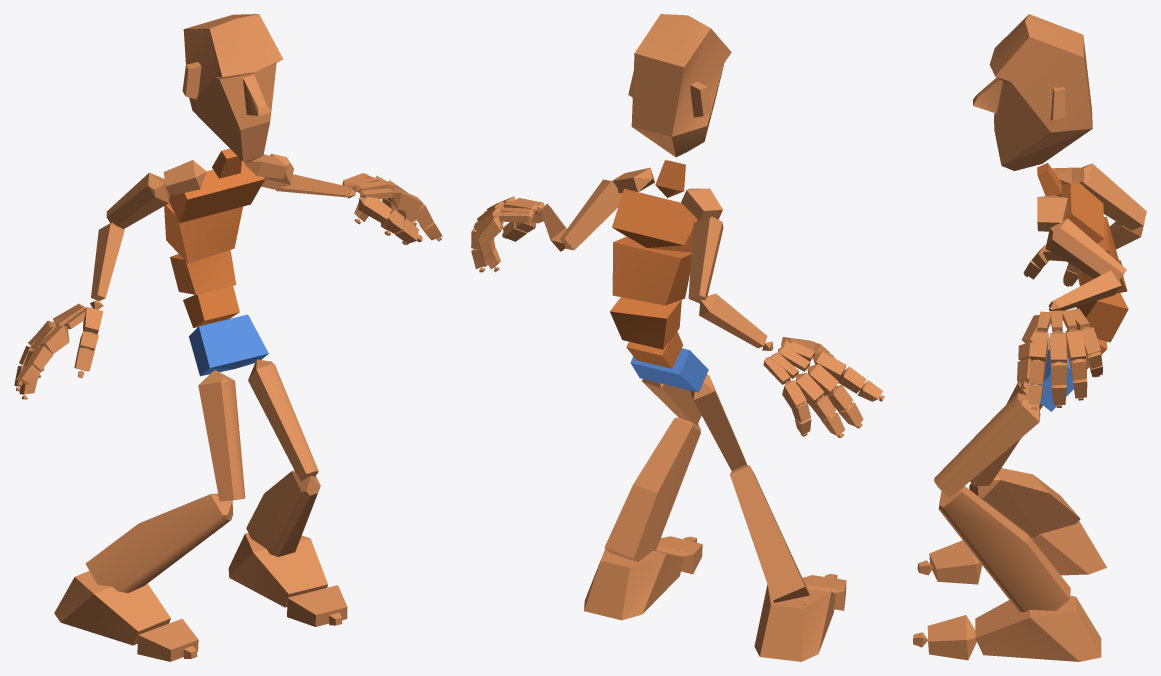
The model's file is prueba104.obj.
3 views of the same model, side by side, from view 1: azimuth 30°, elevation 25°; view 2: azimuth 150°, elevation 25°; view 3: azimuth 270°, elevation 25° (orthographic). The views are drawn at different scales.
Visible parts, largest first — view 1: BOPED_Head, BOPED_R_leg, BOPED_R_foot, BOPED_R_foot01, BOPED_R_legup, BOPED_L_leg, Bone01, BOPED_L_legup, Bone04, Bone05, Bone03, BOPED_R_arm_upper (+8 smaller); view 2: BOPED_Head, BOPED_L_leg, BOPED_R_foot01, BOPED_R_foot, BOPED_R_leg, Bone04, Bone05, Bone03, BOPED_R_arm_upper, BOPED_R_legup, BOPED_L_arm_upper, Bone01 (+9 smaller); view 3: BOPED_Head, BOPED_L_leg, BOPED_R_foot01, BOPED_R_leg, BOPED_L_legup, BOPED_R_foot, BOPED_L_arm_upper, BOPED_R_arm_upper, BOPED_R_foot_toe04, BOPED_R_foot_toe01, Bone05, Bone03 (+14 smaller).
Part boxes in pixels (left/top/right/bottom): BOPED_Head: left=182, top=14, right=282, bottom=162; BOPED_R_leg: left=85, top=493, right=233, bottom=592; BOPED_R_foot: left=54, top=571, right=170, bottom=645; BOPED_R_foot01: left=228, top=533, right=327, bottom=607; BOPED_R_legup: left=198, top=370, right=245, bottom=501; BOPED_L_leg: left=246, top=470, right=320, bottom=556; Bone01: left=189, top=314, right=268, bottom=376; BOPED_L_legup: left=248, top=359, right=318, bottom=481; Bone04: left=164, top=202, right=242, bottom=263; Bone05: left=169, top=162, right=264, bottom=222; Bone03: left=170, top=250, right=236, bottom=294; BOPED_R_arm_upper: left=106, top=172, right=169, bottom=229; BOPED_Head: left=628, top=14, right=731, bottom=157; BOPED_L_leg: left=604, top=417, right=700, bottom=562; BOPED_R_foot01: left=584, top=548, right=683, bottom=620; BOPED_R_foot: left=754, top=584, right=835, bottom=661; BOPED_R_leg: left=729, top=465, right=809, bottom=602; Bone04: left=612, top=237, right=691, bottom=305; Bone05: left=612, top=188, right=698, bottom=252; Bone03: left=610, top=297, right=681, bottom=349; BOPED_R_arm_upper: left=688, top=216, right=723, bottom=303; BOPED_R_legup: left=690, top=374, right=746, bottom=470; BOPED_L_arm_upper: left=560, top=179, right=622, bottom=250; Bone01: left=630, top=348, right=708, bottom=392; BOPED_Head: left=973, top=14, right=1092, bottom=170; BOPED_L_leg: left=938, top=486, right=1070, bottom=612; BOPED_R_foot01: left=975, top=595, right=1101, bottom=661; BOPED_R_leg: left=969, top=468, right=1080, bottom=538; BOPED_L_legup: left=934, top=393, right=1040, bottom=497; BOPED_R_foot: left=1031, top=521, right=1106, bottom=575; BOPED_L_arm_upper: left=1045, top=218, right=1126, bottom=279; BOPED_R_arm_upper: left=1079, top=163, right=1146, bottom=230; BOPED_R_foot_toe04: left=927, top=615, right=976, bottom=660; BOPED_R_foot_toe01: left=929, top=540, right=982, bottom=584; Bone05: left=1060, top=182, right=1104, bottom=243; Bone03: left=1076, top=293, right=1128, bottom=342.
Size of the model in its own units: 130 by 174 by 61.28.
